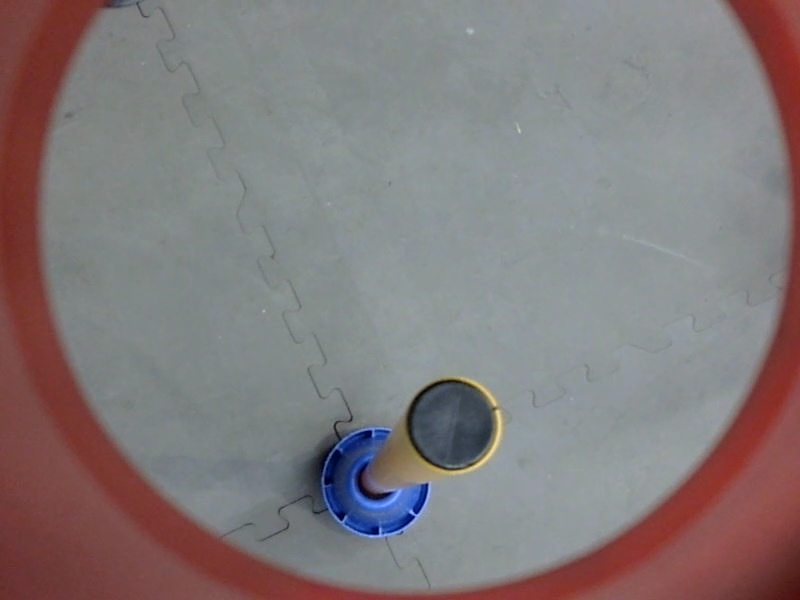tip: (397, 371, 510, 481)
